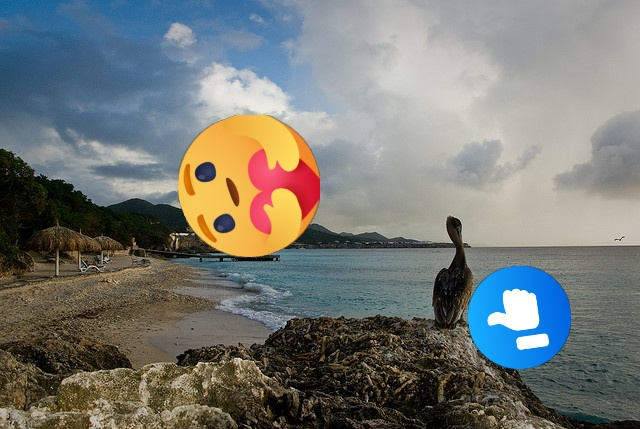care: (178, 115, 320, 257)
like: (468, 266, 571, 369)
